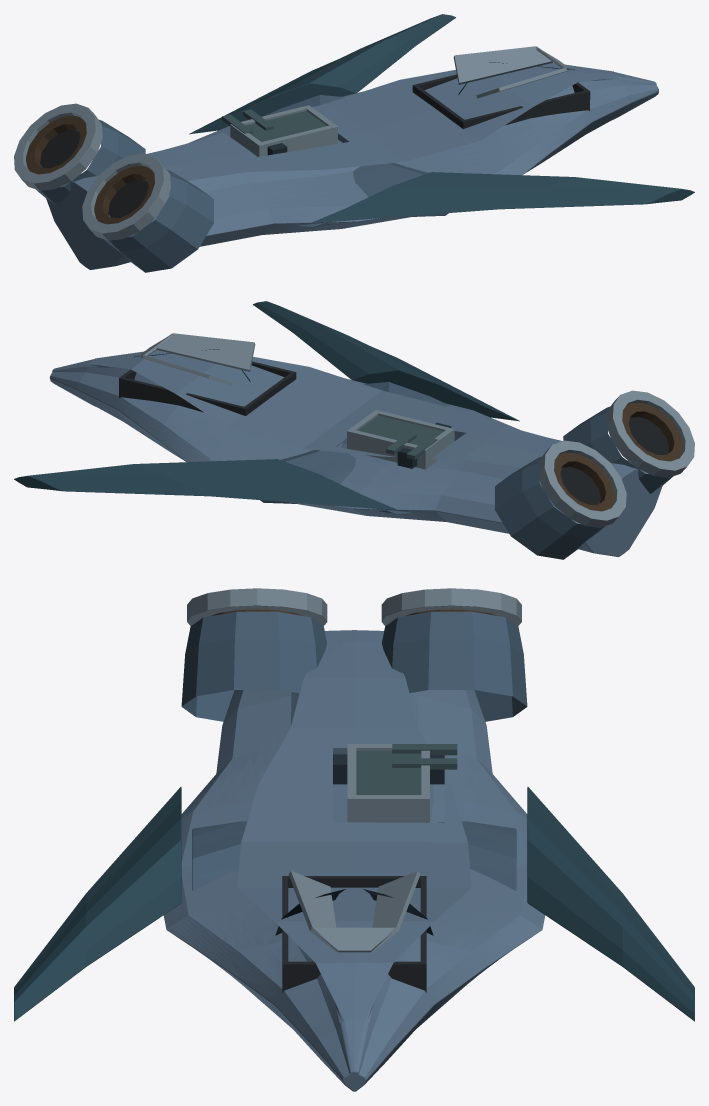
File: hornet_production_v1_lod2.glb
3 renders of one model, top to bottom at view 1: azimuth 30°, elevation 25°; view 2: azimuth 150°, elevation 25°; view 3: azimuth 270°, elevation 25°, orthographic. The views are drawn at different scales.
Visible parts, largest first — view 1: LOD2_Hull, Wing_Port.002, Wing_Stbd.002, DriveHouse_Port.002, DriveFlange_Port.002, DriveFlange_Stbd.002, CanopyFrame_Stbd.002, DriveHouse_Stbd.002, DriveCeramic_Port.002, Wing_Port_RootFairing.002, DriveCeramic_Stbd.002, CanopyTub_C193_Port.002 (+8 smaller); view 2: LOD2_Hull, Wing_Stbd.002, Wing_Port.002, DriveHouse_Stbd.002, DriveFlange_Stbd.002, DriveFlange_Port.002, CanopyFrame_Port.002, DriveHouse_Port.002, Wing_Stbd_RootFairing.002, DriveCeramic_Stbd.002, DriveCeramic_Port.002, CanopyTub_C193_Stbd.002 (+8 smaller); view 3: LOD2_Hull, Wing_Port.002, Wing_Stbd.002, DriveHouse_Port.002, DriveHouse_Stbd.002, DriveFlange_Port.002, DriveFlange_Stbd.002, Wing_Stbd_RootFairing.002, Wing_Port_RootFairing.002, RadiatorCore_C193.002, RadiatorCassette_C193_Fore.002, CanopyFrame_Stbd.002 (+5 smaller).
Boxes of the visible parts, x1,y1,x2,y2 form: LOD2_Hull: (46,63,658,269); Wing_Port.002: (311,172,694,223); Wing_Stbd.002: (189,14,455,134); DriveHouse_Port.002: (104,169,213,272); DriveFlange_Port.002: (82,153,170,240); DriveFlange_Stbd.002: (14,103,102,190); CanopyFrame_Stbd.002: (453,46,553,84); DriveHouse_Stbd.002: (36,119,145,206); DriveCeramic_Port.002: (94,166,154,224); Wing_Port_RootFairing.002: (298,163,428,226); DriveCeramic_Stbd.002: (26,116,86,174); CanopyTub_C193_Port.002: (465,90,586,127); LOD2_Hull: (50,350,662,556); Wing_Stbd.002: (14,459,397,510); Wing_Port.002: (253,301,519,421); DriveHouse_Stbd.002: (495,456,604,559); DriveFlange_Stbd.002: (538,440,626,527); DriveFlange_Port.002: (606,390,694,477); CanopyFrame_Port.002: (155,333,255,371); DriveHouse_Port.002: (563,406,672,493); Wing_Stbd_RootFairing.002: (280,443,410,513); DriveCeramic_Stbd.002: (554,453,614,511); DriveCeramic_Port.002: (622,403,682,461); CanopyTub_C193_Stbd.002: (122,377,243,414); LOD2_Hull: (163,630,545,1091); Wing_Port.002: (14,787,181,1021); Wing_Stbd.002: (527,787,694,1021); DriveHouse_Port.002: (181,611,326,721); DriveHouse_Stbd.002: (382,611,527,721); DriveFlange_Port.002: (187,588,327,625); DriveFlange_Stbd.002: (381,588,521,625); Wing_Stbd_RootFairing.002: (438,821,516,890); Wing_Port_RootFairing.002: (192,821,247,890); RadiatorCore_C193.002: (356,751,420,794); RadiatorCassette_C193_Fore.002: (347,795,429,822); CanopyFrame_Stbd.002: (371,871,420,952).
Size of what is drawn, in the model's own units: 10.95 by 2.18 by 7.56.
10 materials, 6 textured.
